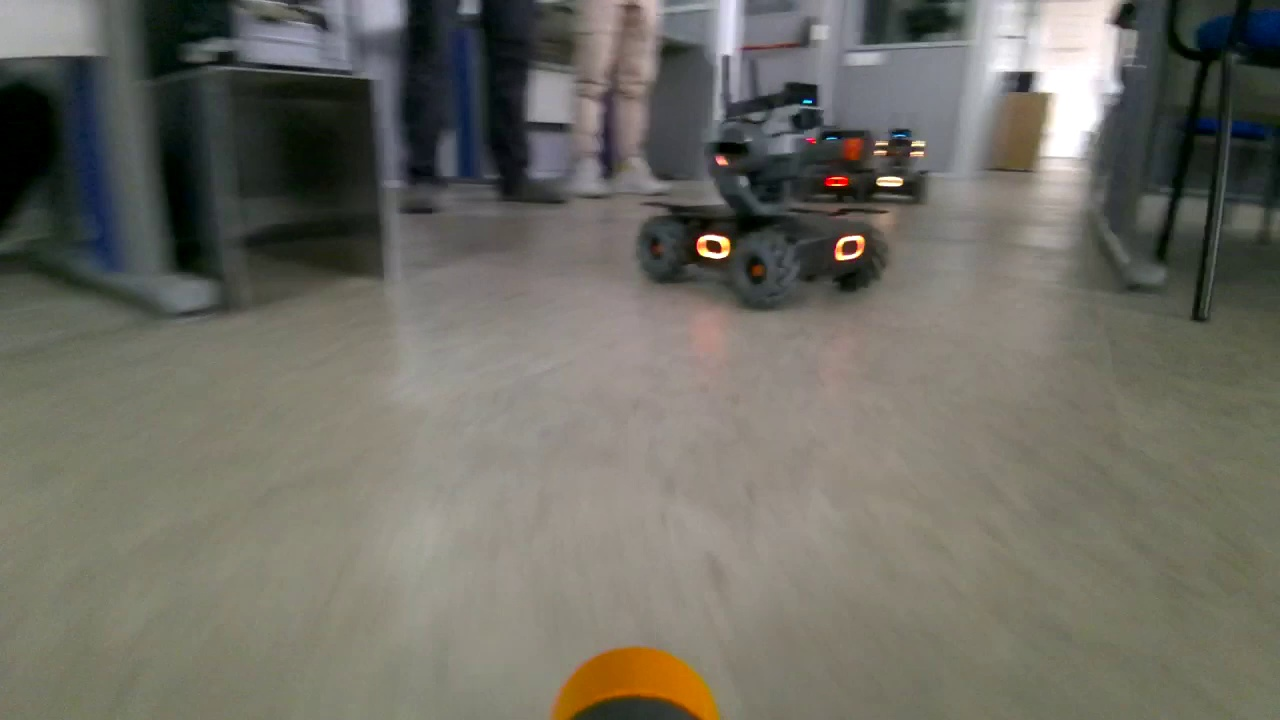robot: (618, 47, 894, 300), (856, 125, 936, 210)
